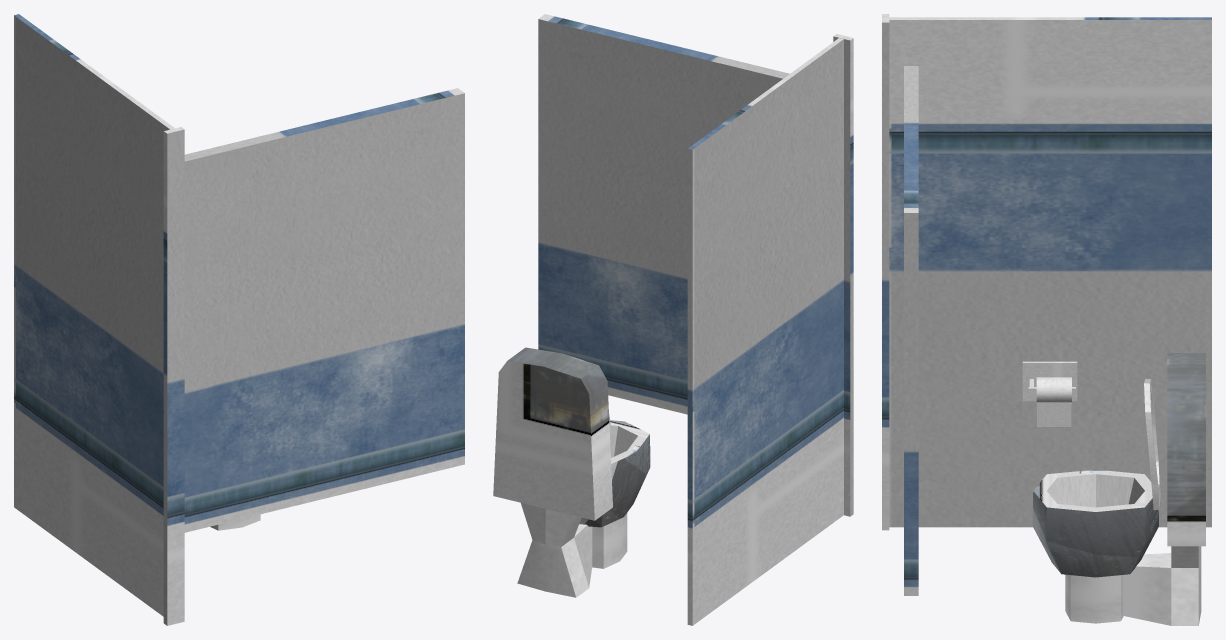
File: Toilettes.FBX
3 renders of one model, left to right at view 1: azimuth 30°, elevation 25°; view 2: azimuth 150°, elevation 25°; view 3: azimuth 270°, elevation 25°, orthographic. The views are drawn at different scales.
Parts seen in each view (by area): view 1: Toilette_Door, Toilette; view 2: Toilette, Toilette_Door; view 3: Toilette, Toilette_Door.
Part boxes in pixels (left/top/right/bottom): Toilette_Door: left=184, top=88, right=464, bottom=532; Toilette: left=14, top=14, right=260, bottom=625; Toilette: left=493, top=34, right=853, bottom=625; Toilette_Door: left=538, top=14, right=789, bottom=414; Toilette: left=882, top=14, right=1211, bottom=625; Toilette_Door: left=904, top=66, right=918, bottom=595.
Size of the model in its own units: 129 by 199 by 116.
